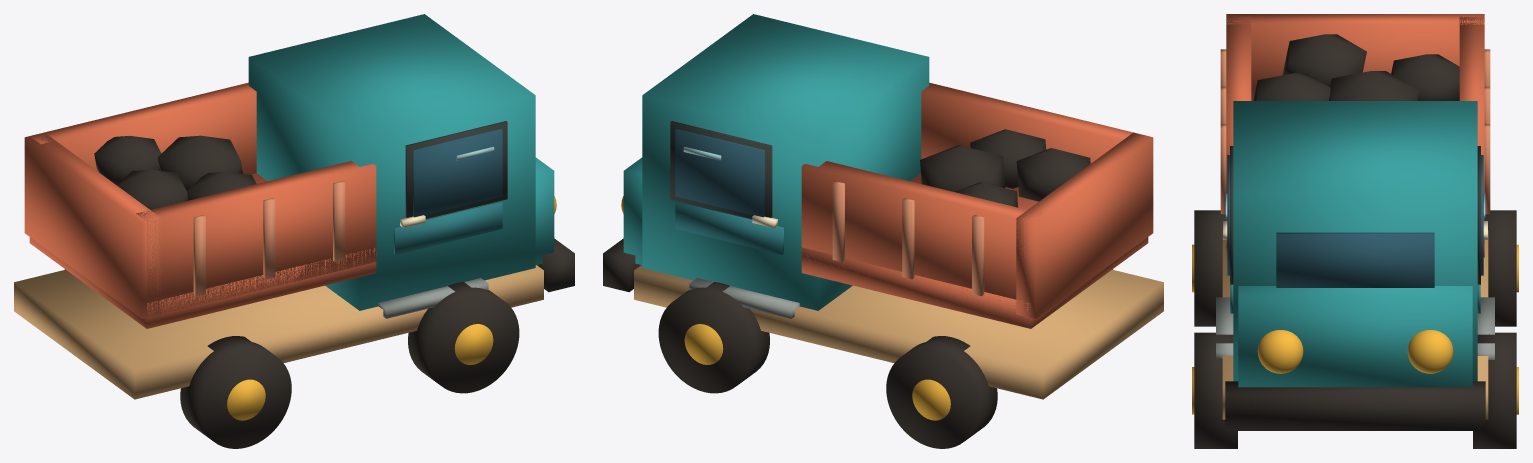
The model's file is fleet-dump.glb.
3 renders of one model, left to right at view 1: azimuth 30°, elevation 25°; view 2: azimuth 150°, elevation 25°; view 3: azimuth 270°, elevation 25°, orthographic. The views are drawn at different scales.
Visible parts, largest first — view 1: Dump_Cab, Dump_Chassis, Dump_Bed_Left_Wall, Dump_Bed_Back, Dump_Bed_Right_Wall, Dump_Wheel_3, Dump_Wheel_1, Dump_Bed_Floor, Dump_Left_Window, Dump_Door_Panel_Left, Dump_Rock_2, Dump_Rock_3 (+11 smaller); view 2: Dump_Cab, Dump_Chassis, Dump_Bed_Right_Wall, Dump_Bed_Back, Dump_Bed_Left_Wall, Dump_Wheel_4, Dump_Wheel_2, Dump_Bed_Floor, Dump_Right_Window, Dump_Door_Panel_Right, Dump_Rock_2, Dump_Rock_4 (+11 smaller); view 3: Dump_Cab, Dump_Hood, Dump_Bumper, Dump_Bed_Back, Dump_Front_Window, Dump_Wheel_1, Dump_Wheel_2, Dump_Wheel_3, Dump_Wheel_4, Dump_Rock_4, Dump_Bed_Left_Wall, Dump_Bed_Right_Wall (+14 smaller).
Part boxes in pixels (x1,y1,x2,y2): Dump_Cab: (248,14,535,310); Dump_Chassis: (14,265,543,399); Dump_Bed_Left_Wall: (136,161,376,317); Dump_Bed_Back: (24,132,161,318); Dump_Bed_Right_Wall: (30,82,256,174); Dump_Wheel_3: (180,336,291,448); Dump_Wheel_1: (408,282,519,393); Dump_Bed_Floor: (29,173,376,328); Dump_Left_Window: (413,128,502,217); Dump_Door_Panel_Left: (394,201,502,254); Dump_Rock_2: (158,135,242,190); Dump_Rock_3: (94,135,161,185); Dump_Cab: (642,14,929,310); Dump_Chassis: (634,265,1163,399); Dump_Bed_Right_Wall: (801,161,1041,304); Dump_Bed_Back: (1016,132,1153,318); Dump_Bed_Left_Wall: (921,82,1145,201); Dump_Wheel_4: (886,336,997,448); Dump_Wheel_2: (658,282,769,393); Dump_Bed_Floor: (801,173,1148,328); Dump_Right_Window: (675,128,764,217); Dump_Door_Panel_Right: (675,201,783,254); Dump_Rock_2: (920,145,1005,191); Dump_Rock_4: (1016,148,1090,201); Dump_Cab: (1233,101,1477,381); Dump_Hood: (1238,286,1472,387); Dump_Bumper: (1225,381,1485,430); Dump_Bed_Back: (1226,14,1484,100); Dump_Front_Window: (1276,232,1434,287); Dump_Wheel_1: (1194,332,1237,448); Dump_Wheel_2: (1473,332,1516,448); Dump_Wheel_3: (1194,210,1226,326); Dump_Wheel_4: (1484,210,1516,326); Dump_Rock_4: (1282,34,1366,86); Dump_Bed_Left_Wall: (1226,16,1251,243); Dump_Bed_Right_Wall: (1459,16,1484,244).
Size of the model in its own units: 5.44 by 3.09 by 3.14.
